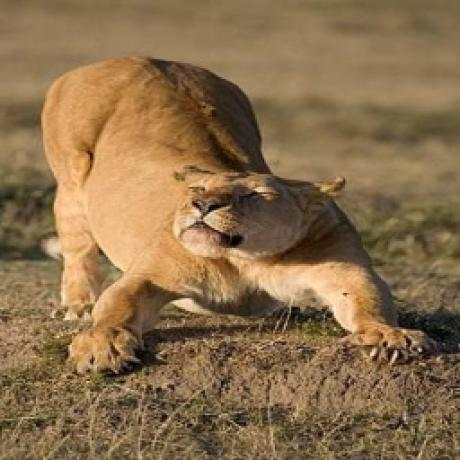Lion: (41, 50, 436, 374)
